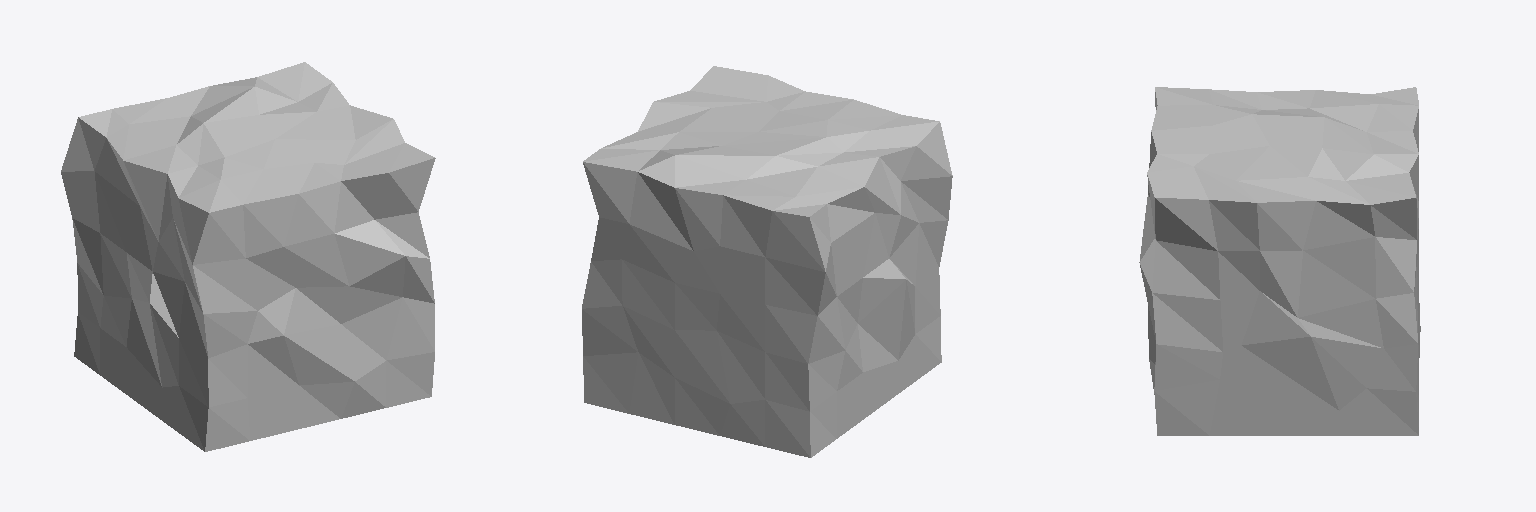
File: Block.obj
The picture shows the model from 3 angles: view 1: azimuth 30°, elevation 25°; view 2: azimuth 150°, elevation 25°; view 3: azimuth 270°, elevation 25°; orthographic projection.
Parts seen in each view (by area): view 1: Cube.000_Cube; view 2: Cube.000_Cube; view 3: Cube.000_Cube.
Boxes of the visible parts, x1=… form: Cube.000_Cube: x1=61, y1=62, x2=435, y2=451; Cube.000_Cube: x1=582, y1=66, x2=952, y2=457; Cube.000_Cube: x1=1139, y1=87, x2=1420, y2=435.
Size of the model in its own units: 2.23 by 2.09 by 2.15.